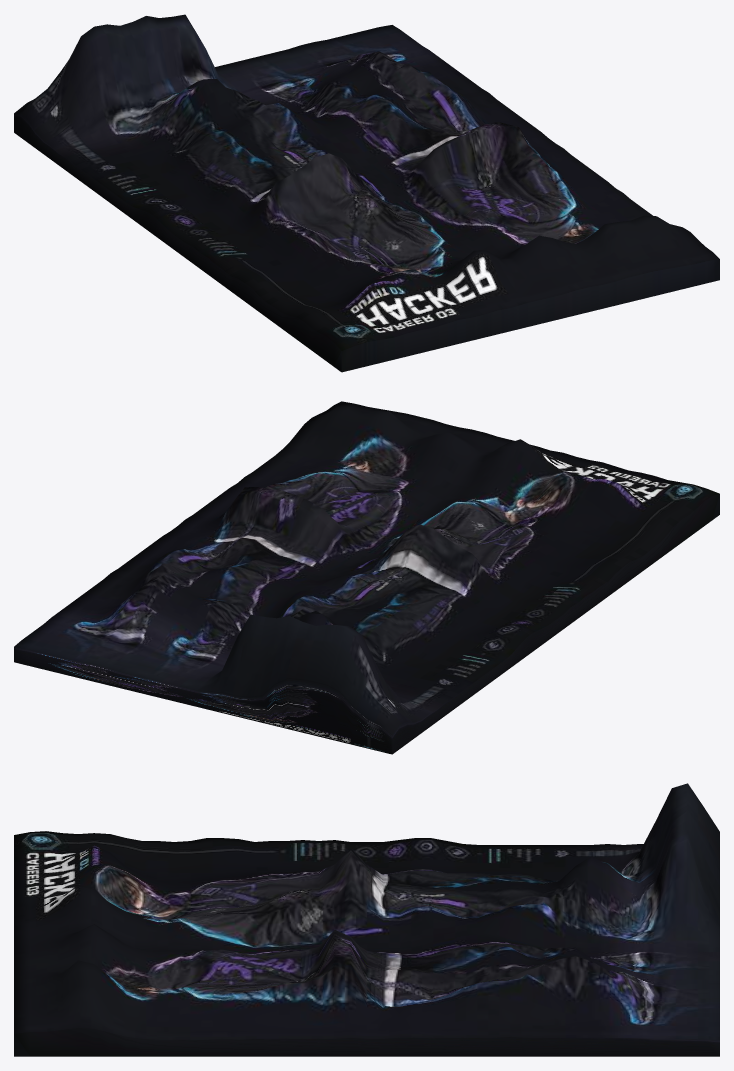
The model's file is CAREER_03_Outfit_07_Casual.glb.
3 views of the same model, one above another, from view 1: azimuth 30°, elevation 25°; view 2: azimuth 150°, elevation 25°; view 3: azimuth 270°, elevation 25° (orthographic). The views are drawn at different scales.
Parts seen in each view (by area): view 1: CAREER_03_Outfit_07_Casual; view 2: CAREER_03_Outfit_07_Casual; view 3: CAREER_03_Outfit_07_Casual.
Part boxes in pixels (x1,y1,x2,y2): CAREER_03_Outfit_07_Casual: (14, 14, 719, 372); CAREER_03_Outfit_07_Casual: (14, 401, 719, 754); CAREER_03_Outfit_07_Casual: (14, 783, 719, 1056).
Size of the model in its own units: 2 by 0.51 by 3.
1 material, 1 textured.
